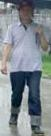boots: (9, 113, 18, 125), (0, 91, 5, 98)
hard-hat: (0, 8, 8, 19)
